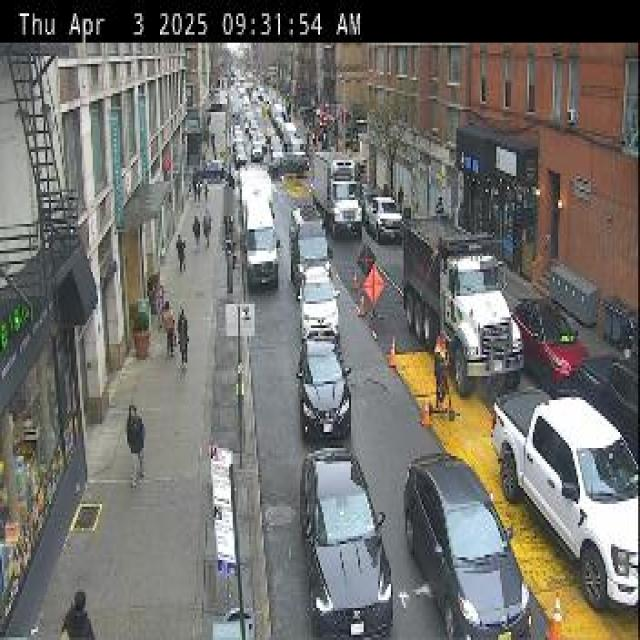open parking: (349, 140, 491, 324)
